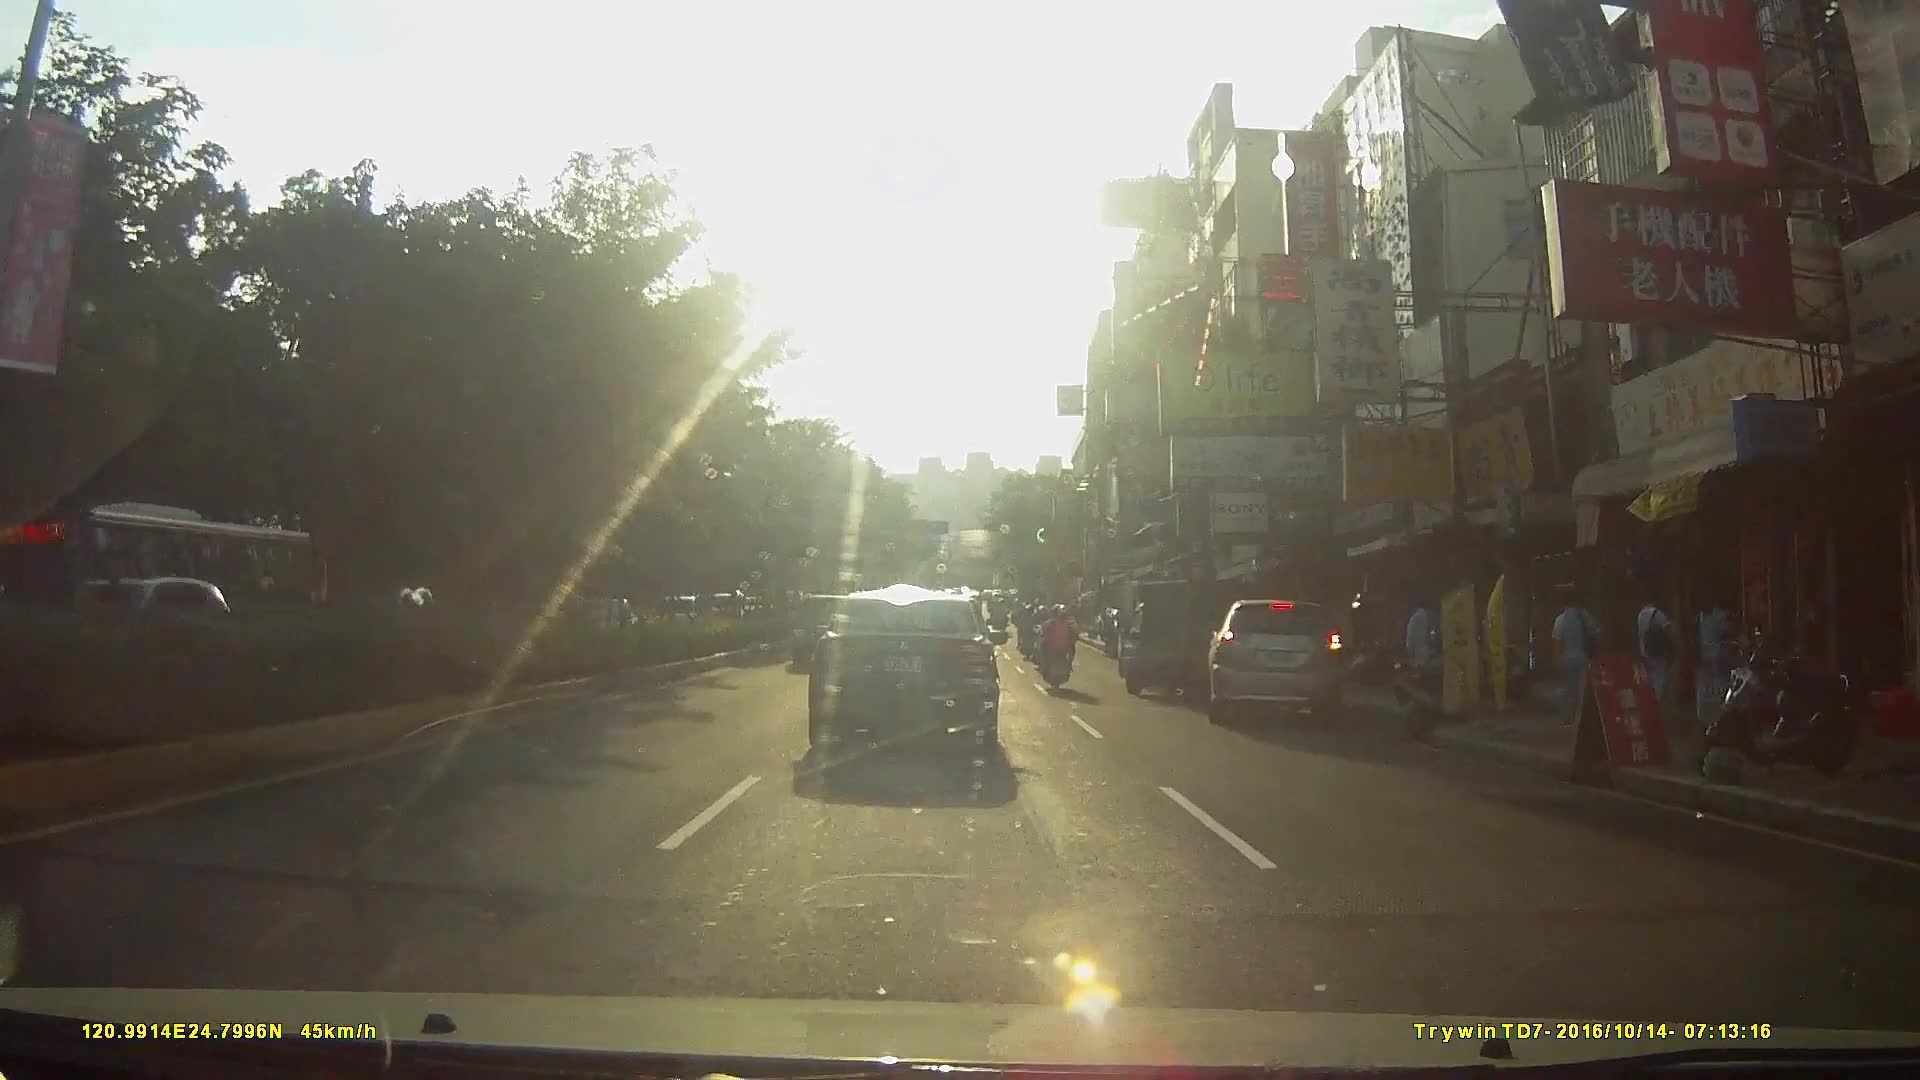pedestrian: (1553, 581, 1604, 730), (1637, 585, 1677, 742), (1690, 583, 1733, 723), (1406, 593, 1447, 699)
rider: (1037, 596, 1080, 693), (1018, 600, 1043, 661)
vehicle: (38, 500, 335, 665), (810, 592, 1029, 776), (1198, 588, 1363, 736), (1110, 566, 1240, 708)
